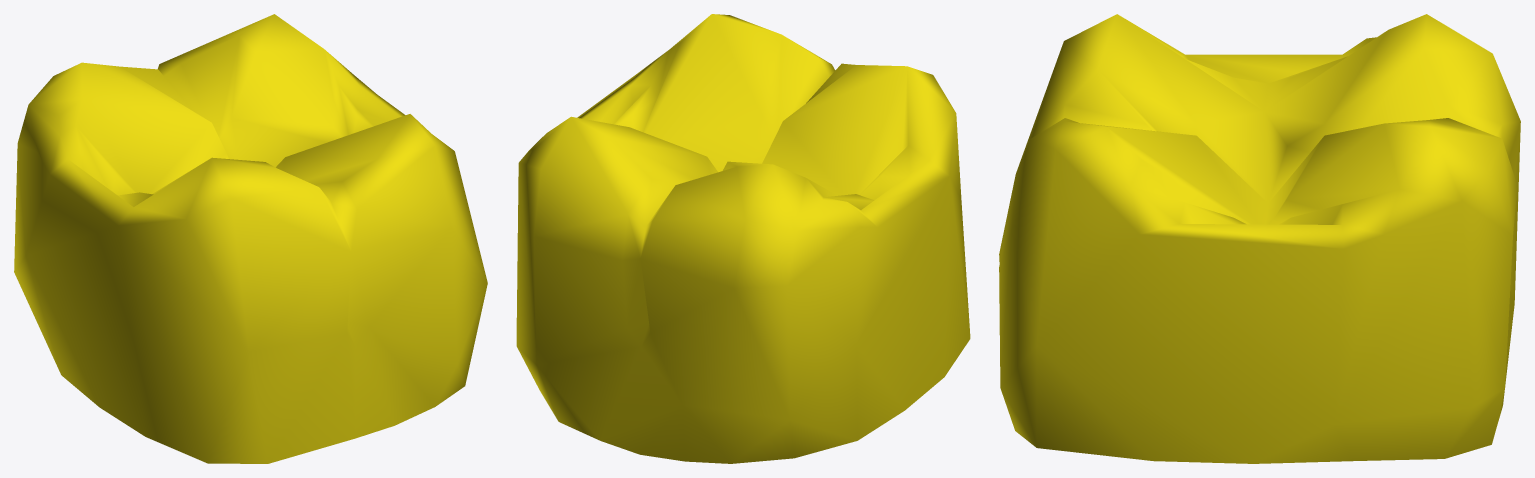
Rendered from D47N_NUC.obj.
3 renders of one model, left to right at view 1: azimuth 30°, elevation 25°; view 2: azimuth 150°, elevation 25°; view 3: azimuth 270°, elevation 25°, orthographic. The views are drawn at different scales.
Visible parts, largest first — view 1: D47N_NUC; view 2: D47N_NUC; view 3: D47N_NUC.
Boxes of the visible parts, x1,y1,x2,y2 form: D47N_NUC: (14,14,487,463); D47N_NUC: (516,14,970,463); D47N_NUC: (999,14,1520,463).
Size of the model in its own units: 6.25 by 5.11 by 7.2.
